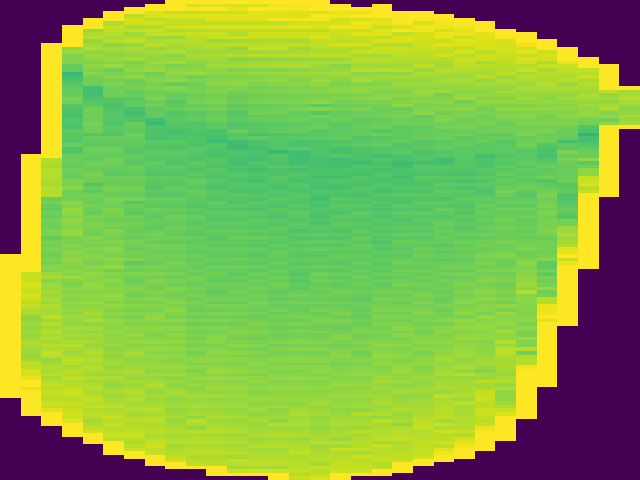cylinder: (1, 1, 640, 480)
